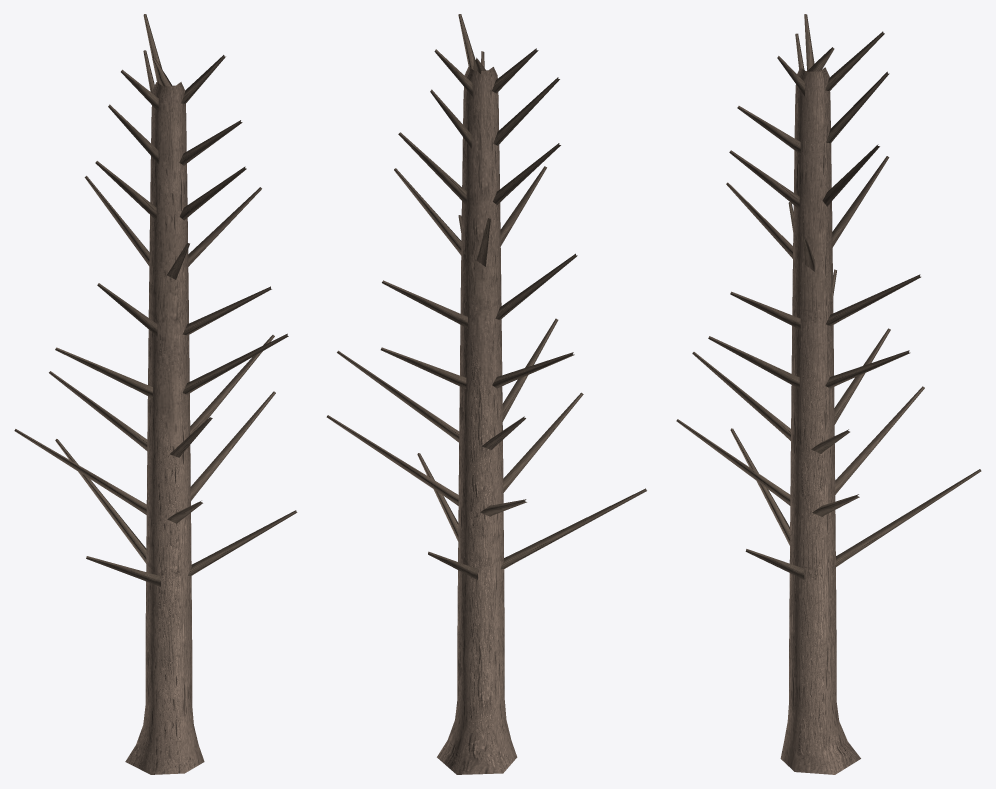
The model's file is tree_small.glb.
The picture shows the model from 3 angles, left to right: view 1: azimuth 30°, elevation 25°; view 2: azimuth 150°, elevation 25°; view 3: azimuth 270°, elevation 25°; orthographic projection.
Visible parts, largest first — view 1: Object_71; view 2: Object_71; view 3: Object_71.
Boxes of the visible parts, x1=… form: Object_71: x1=14, y1=14, x2=297, y2=774; Object_71: x1=326, y1=14, x2=646, y2=774; Object_71: x1=676, y1=14, x2=981, y2=774.
Bounding box in the file's own units: 0.7008 × 1.91 × 0.7206.
1 material, 1 textured.
